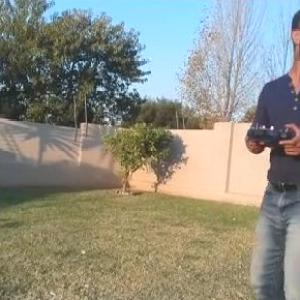follow: (238, 0, 299, 299)
